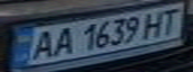1: (75, 20, 96, 52)
3: (109, 16, 130, 47)
6: (93, 18, 115, 48)
9: (121, 14, 145, 43)
A: (24, 28, 60, 61), (48, 25, 78, 57)
H: (139, 9, 169, 38)
T: (154, 6, 187, 36)
